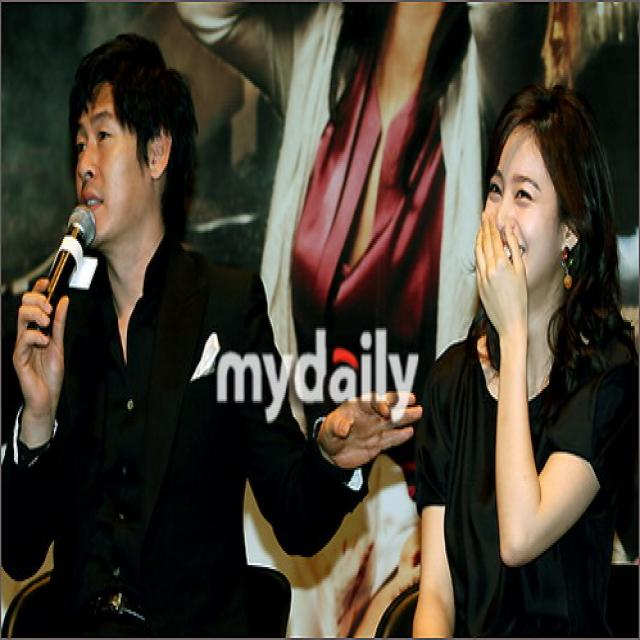nomask: (480, 125, 559, 304), (70, 81, 148, 243)
